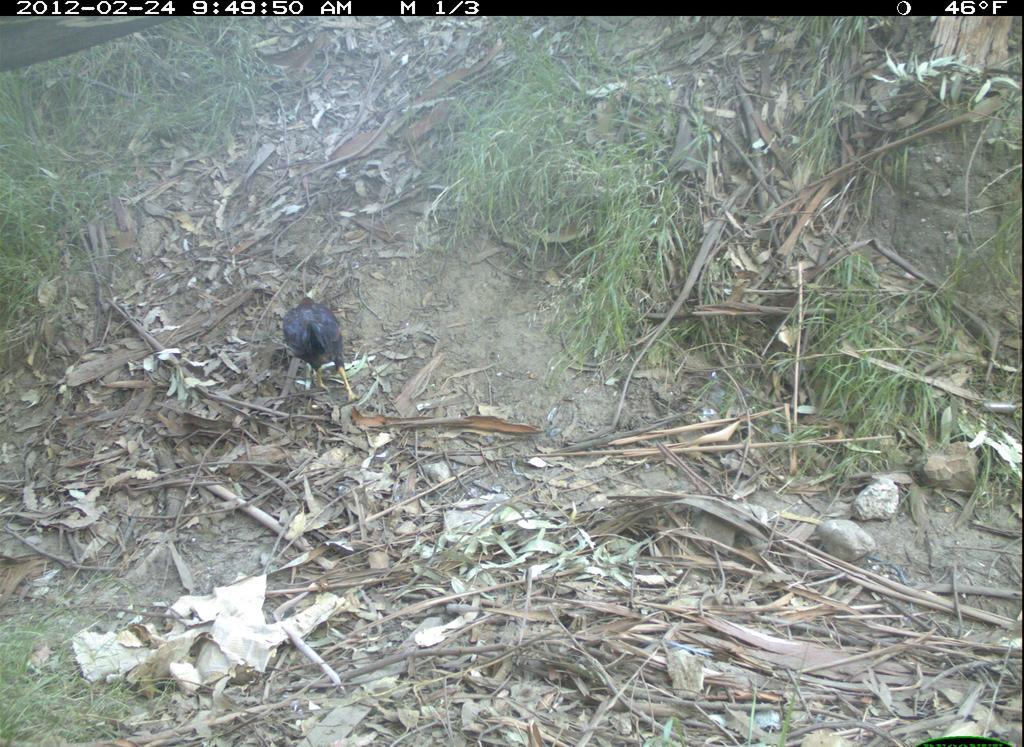bird: (269, 281, 369, 410)
